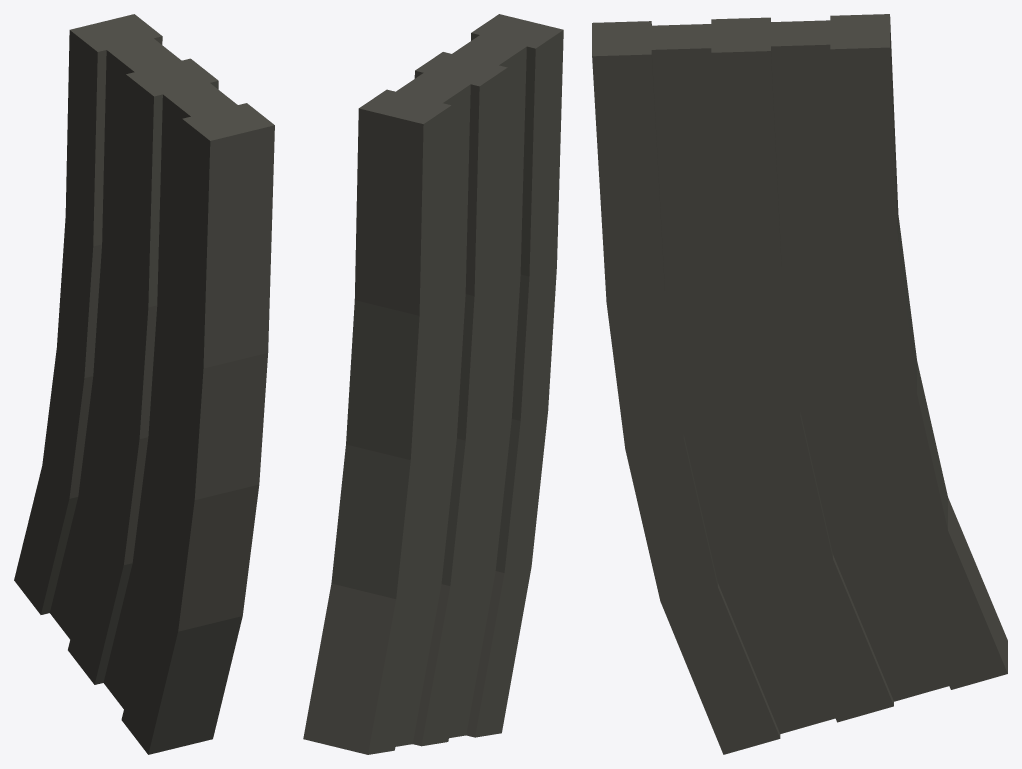
The model's file is 04_m_16_magazine.glb.
3 renders of one model, left to right at view 1: azimuth 30°, elevation 25°; view 2: azimuth 150°, elevation 25°; view 3: azimuth 270°, elevation 25°, orthographic. The views are drawn at different scales.
Parts seen in each view (by area): view 1: m16_magazine; view 2: m16_magazine; view 3: m16_magazine.
Part boxes in pixels (x1,y1,x2,y2): m16_magazine: (14, 14, 274, 754); m16_magazine: (303, 14, 563, 754); m16_magazine: (592, 14, 1007, 754).
Size of the model in its own units: 0.0177 by 0.1738 by 0.0926.
Materials: 1 (1 with a texture image).
